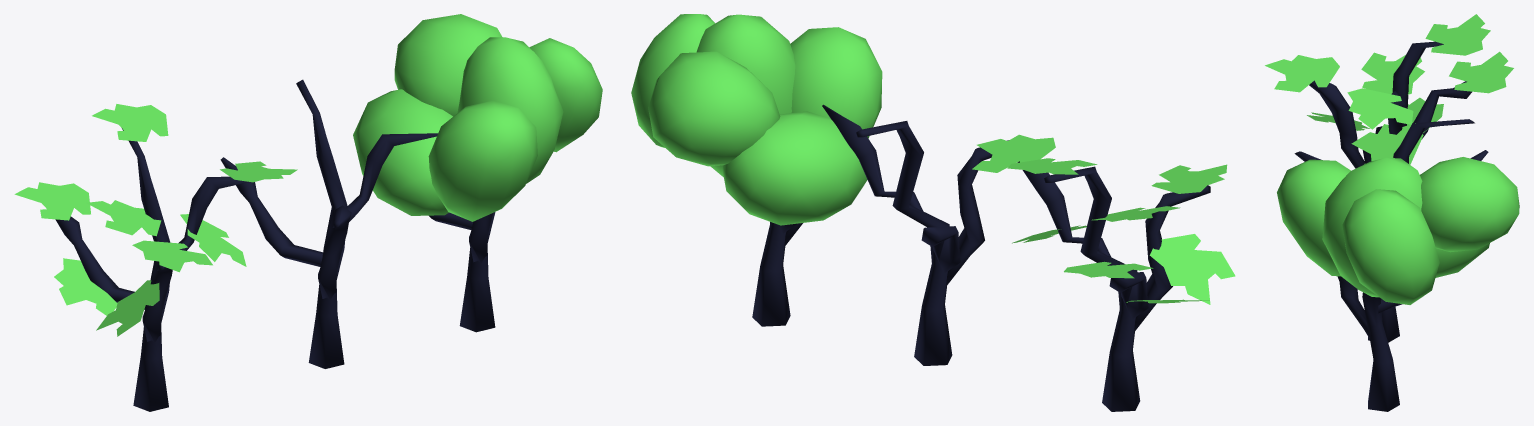
File: Trees.fbx
The picture shows the model from 3 angles, left to right: view 1: azimuth 30°, elevation 25°; view 2: azimuth 150°, elevation 25°; view 3: azimuth 270°, elevation 25°; orthographic projection. The views are drawn at different scales.
Parts seen in each view (by area): view 1: TreeTrunkBush, TreeTrunk.002, TreeTrunk; view 2: TreeTrunkBush, TreeTrunk.002, TreeTrunk; view 3: TreeTrunkBush, TreeTrunk.002, TreeTrunk.
Part boxes in pixels (left/top/right/bottom): TreeTrunkBush: left=353, top=14, right=602, bottom=332; TreeTrunk.002: left=14, top=104, right=297, bottom=411; TreeTrunk: left=220, top=79, right=437, bottom=368; TreeTrunkBush: left=631, top=14, right=882, bottom=326; TreeTrunk.002: left=972, top=134, right=1235, bottom=411; TreeTrunk: left=822, top=104, right=1008, bottom=365; TreeTrunkBush: left=1277, top=157, right=1519, bottom=411; TreeTrunk.002: left=1265, top=14, right=1513, bottom=168; TreeTrunk: left=1294, top=119, right=1488, bottom=342.
Bounding box in the file's own units: 1082 × 543 × 482.
